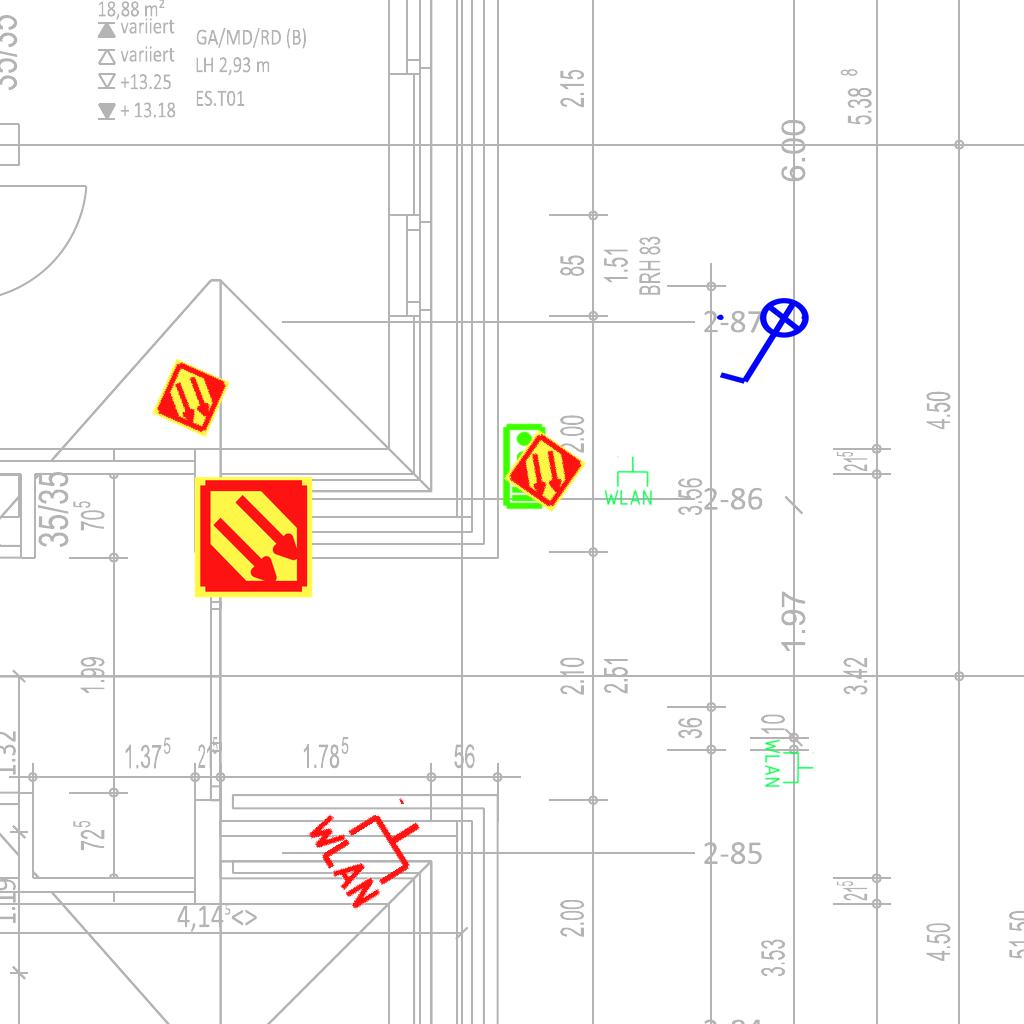ASR_Ansaugrauchmelder: (191, 475, 316, 600), (501, 427, 589, 515), (150, 357, 232, 439)
Ausschalter_beleuchtet: (711, 296, 823, 392)
Gegensprechanlage_mit_Video: (500, 422, 547, 510)
WLAN: (300, 771, 445, 915), (602, 455, 654, 507), (763, 737, 815, 789)
